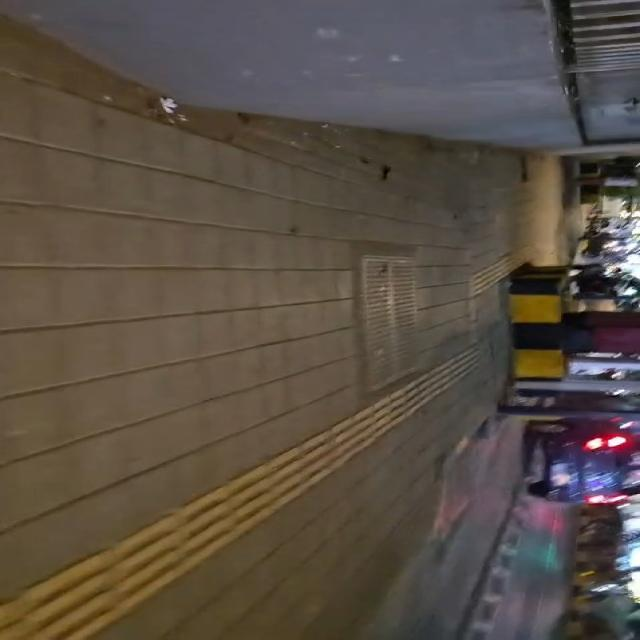obstacle: (499, 406, 639, 421), (516, 379, 639, 392), (568, 357, 639, 370)
